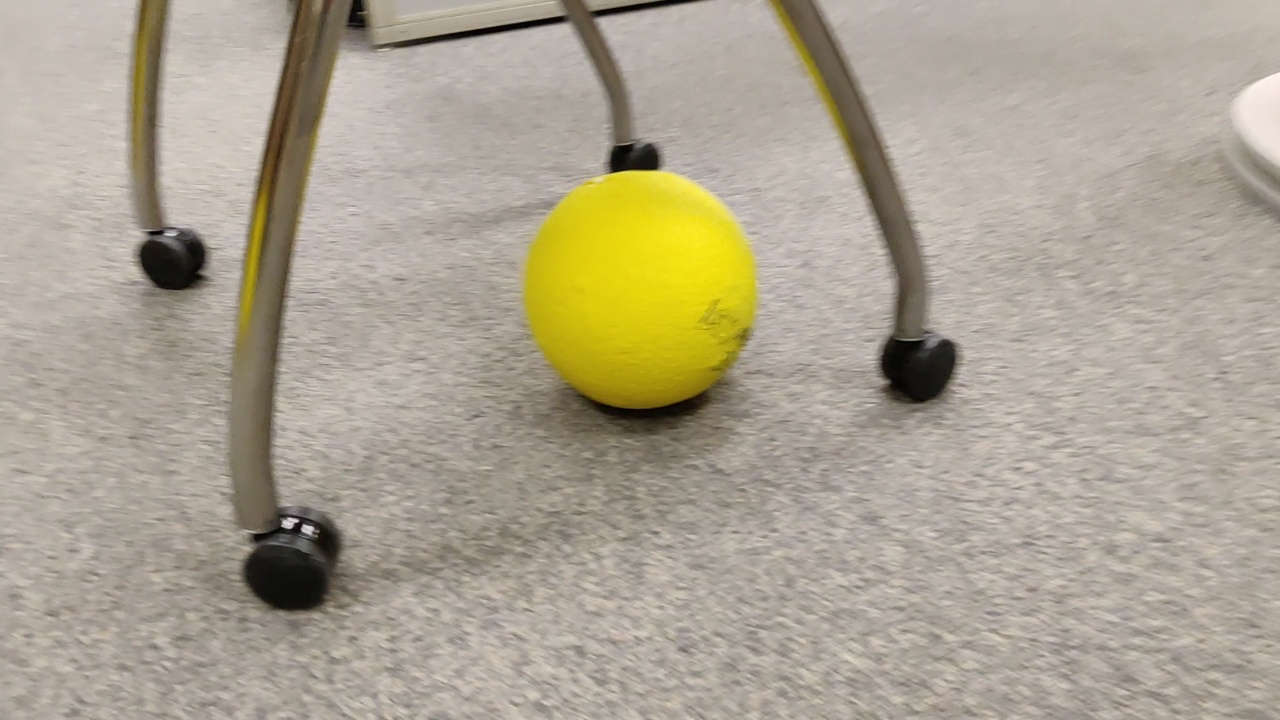Ball: (536, 169, 757, 429)
